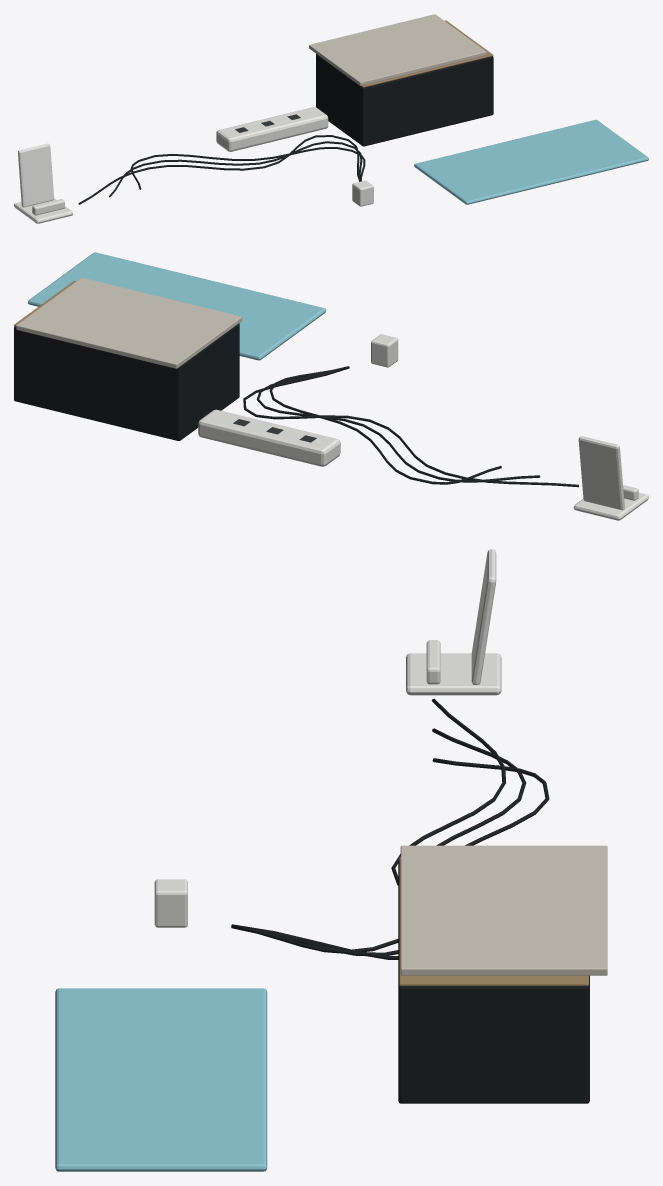
3 views of the same model, one above another, from view 1: azimuth 30°, elevation 25°; view 2: azimuth 150°, elevation 25°; view 3: azimuth 270°, elevation 25° (orthographic). The views are drawn at different scales.
Visible parts, largest first — view 1: Unprinted dark instrument carton, Flat cyan sign substrate, Stacked blank papers, Small white stand base, Cardboard exposed edge; view 2: Unprinted dark instrument carton, Stacked blank papers, Flat cyan sign substrate, Small white stand base; view 3: Flat cyan sign substrate, Unprinted dark instrument carton, Stacked blank papers, Small white stand base, Cardboard exposed edge.
Boxes of the visible parts, x1=… form: Unprinted dark instrument carton: x1=78, y1=54, x2=493, y2=204; Flat cyan sign substrate: x1=414, y1=119, x2=648, y2=204; Stacked blank papers: x1=309, y1=14, x2=486, y2=85; Small white stand base: x1=14, y1=107, x2=373, y2=223; Cardboard exposed edge: x1=361, y1=20, x2=493, y2=87; Unprinted dark instrument carton: x1=14, y1=323, x2=578, y2=487; Stacked blank papers: x1=16, y1=277, x2=242, y2=368; Flat cyan sign substrate: x1=28, y1=252, x2=326, y2=360; Small white stand base: x1=198, y1=334, x2=648, y2=520; Flat cyan sign substrate: x1=55, y1=988, x2=267, y2=1171; Unprinted dark instrument carton: x1=231, y1=698, x2=589, y2=1103; Stacked blank papers: x1=400, y1=845, x2=607, y2=975; Small white stand base: x1=154, y1=549, x2=501, y2=927; Cardboard exposed edge: x1=399, y1=856, x2=588, y2=985.
Size of the model in its own units: 1.2 by 0.142 by 0.5475.
